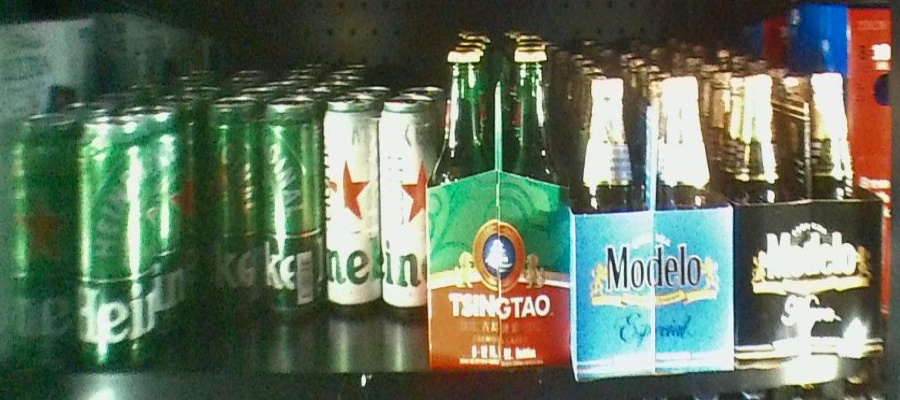bottle: (573, 62, 734, 372), (429, 43, 571, 374), (730, 68, 884, 361), (1, 124, 156, 361), (201, 102, 321, 320), (327, 100, 428, 306)
